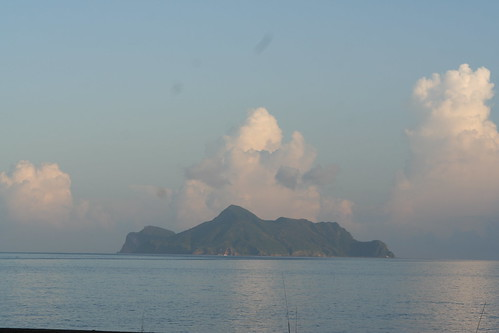turtleIslandLeft: (122, 204, 395, 258)
